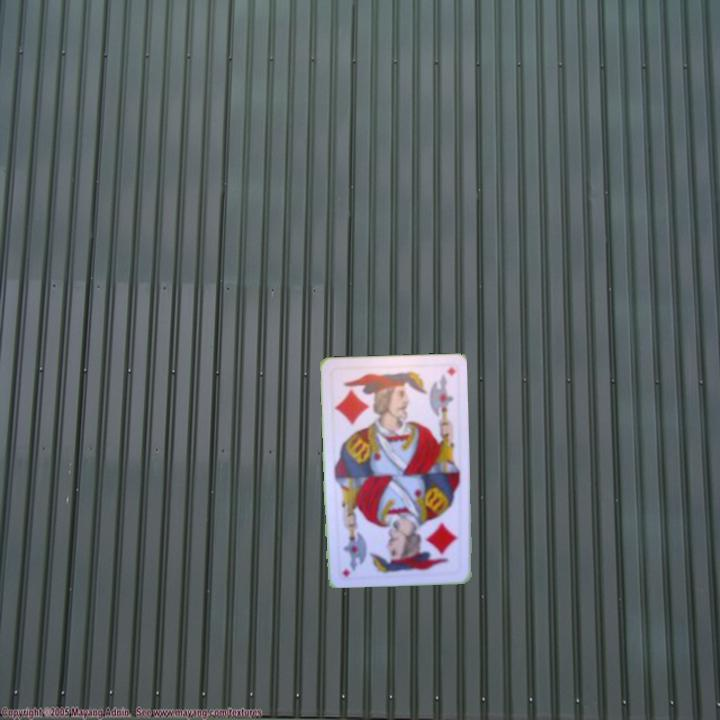d_j.png: (395, 516, 463, 576), (329, 365, 398, 424)
